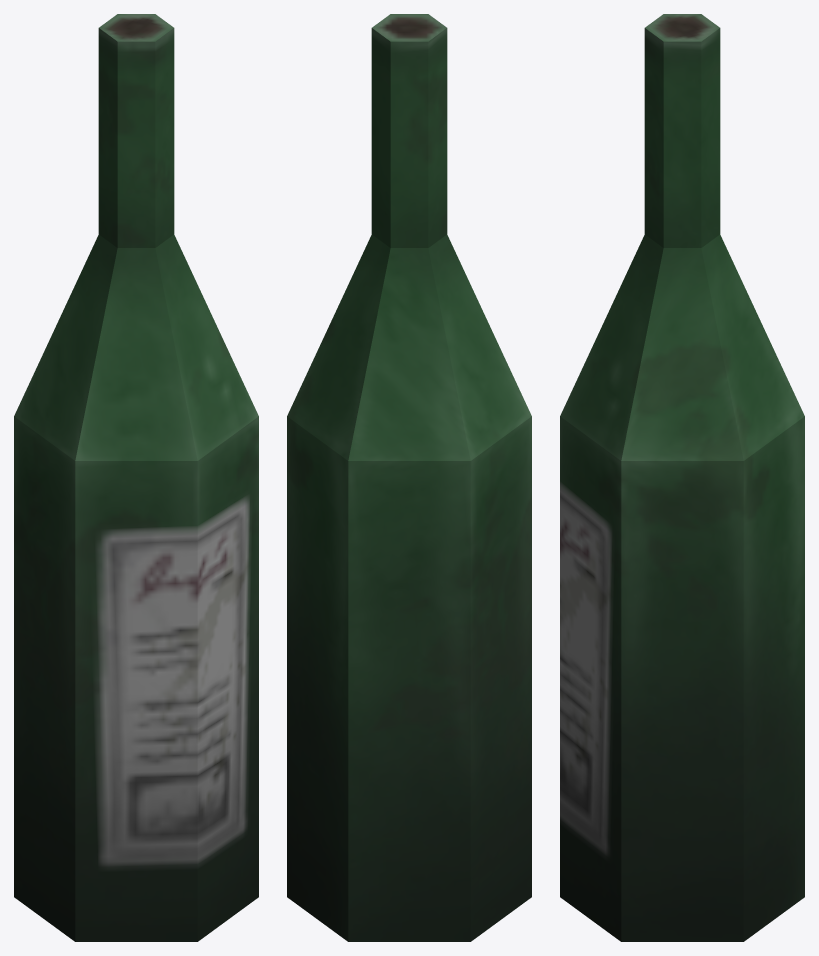
The model's file is Bottle.Wine.fbx.
3 views of the same model, side by side, from view 1: azimuth 30°, elevation 25°; view 2: azimuth 150°, elevation 25°; view 3: azimuth 270°, elevation 25° (orthographic).
Visible parts, largest first — view 1: Bottle.Wine; view 2: Bottle.Wine; view 3: Bottle.Wine.
Boxes of the visible parts, x1=… form: Bottle.Wine: x1=14, y1=14, x2=258, y2=941; Bottle.Wine: x1=287, y1=14, x2=531, y2=941; Bottle.Wine: x1=560, y1=14, x2=804, y2=941.
Size of the model in its own units: 8.35 by 37.77 by 9.65.
